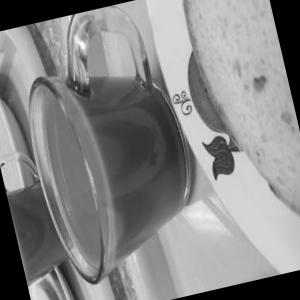coffee: (0, 21, 227, 288)
